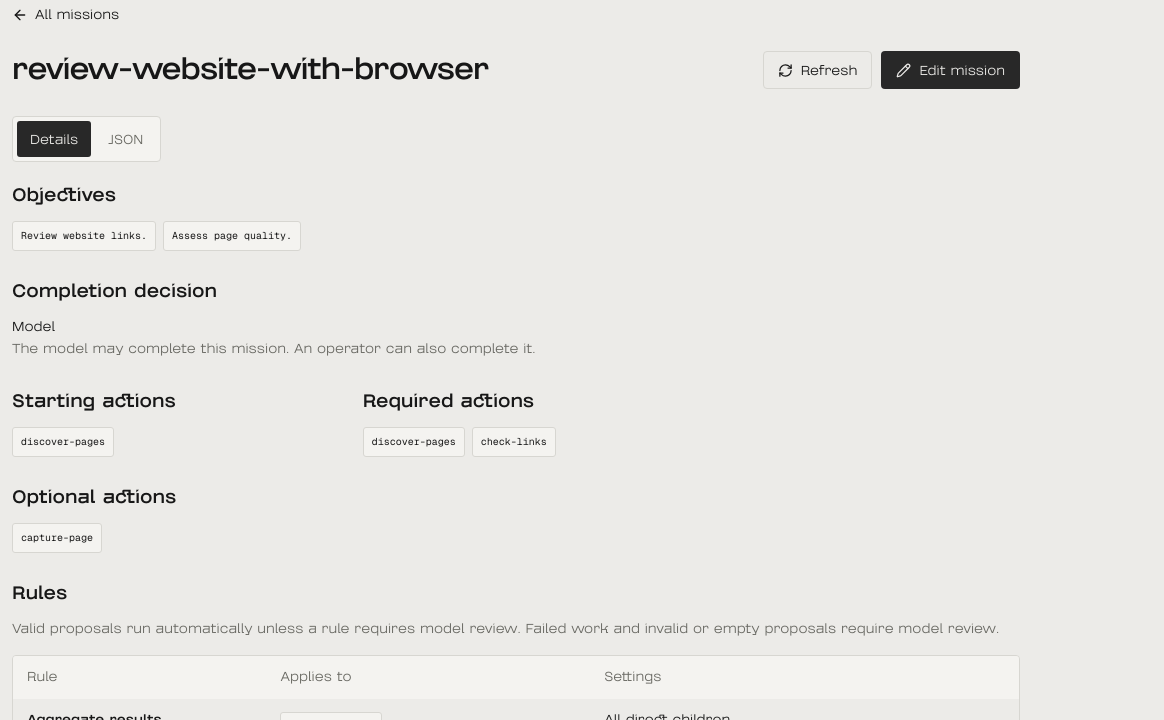
Test case: mission editing › keeps an uncertain update locked until the operator inspects saved state without retrying
Click the button "Edit mission" at (951, 70), box [881,51,1020,89]
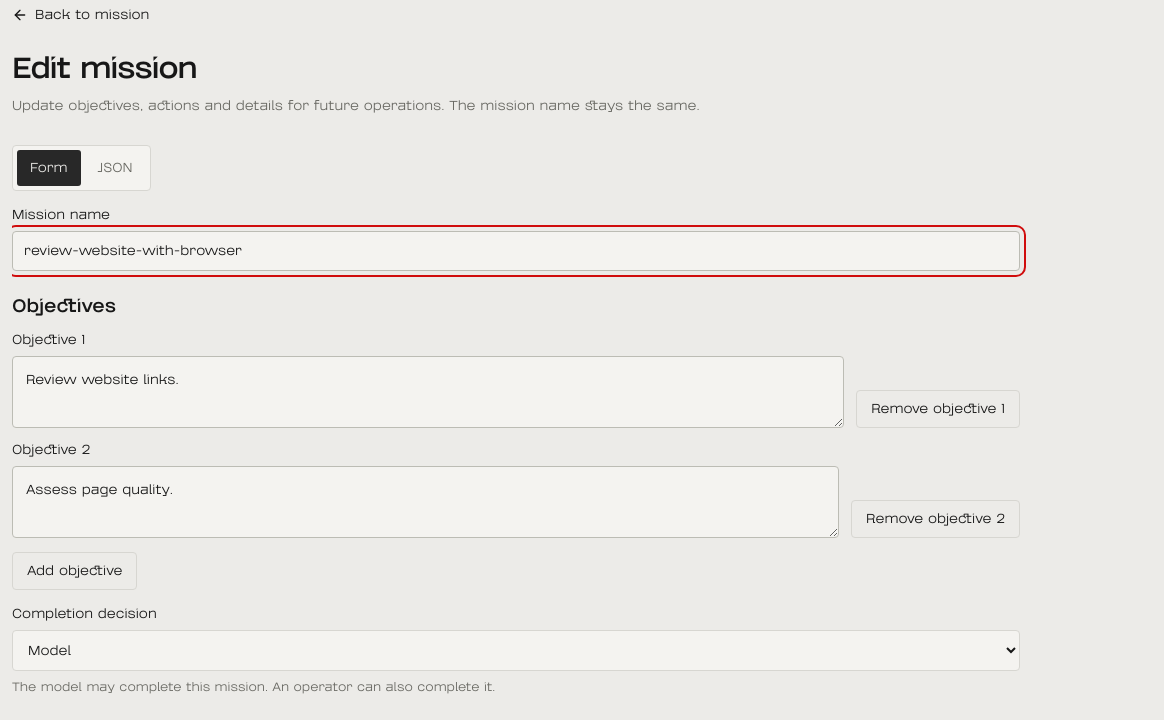
Replace the text in the text box labelled "Objective 1" with "The server accepted this update." at (428, 392), box [12,356,844,428]
(page scrolled)
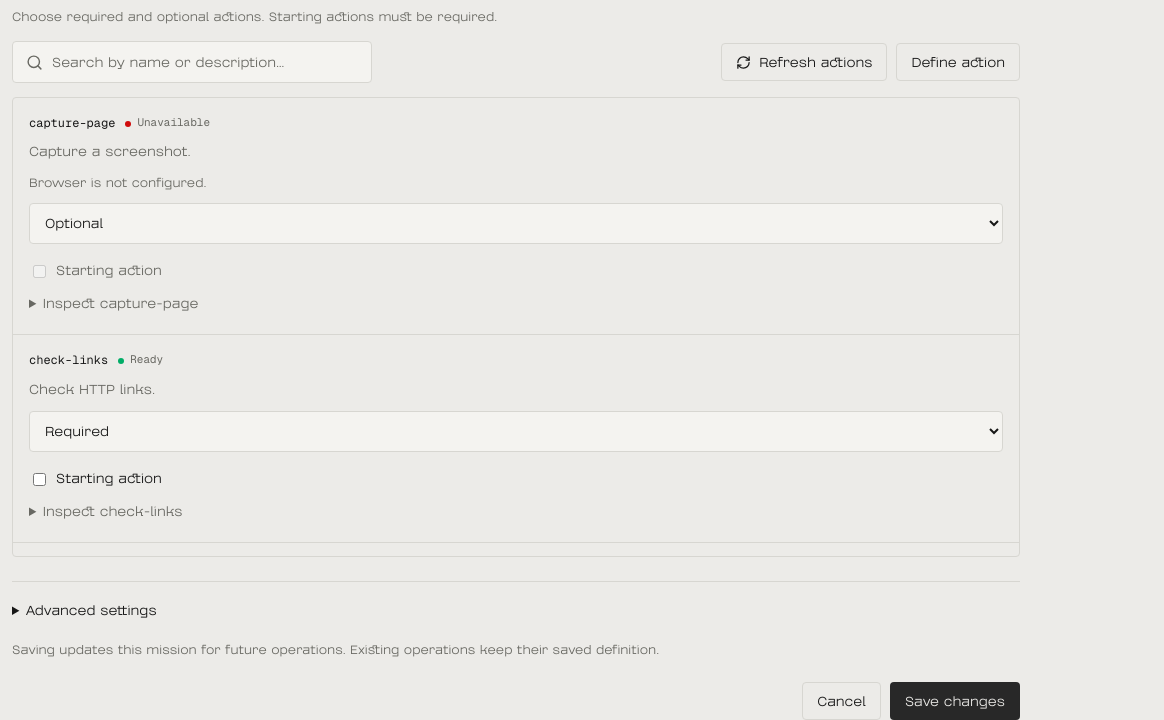
Click the button "Save changes" at (955, 701), box [890,682,1020,719]
(page scrolled)
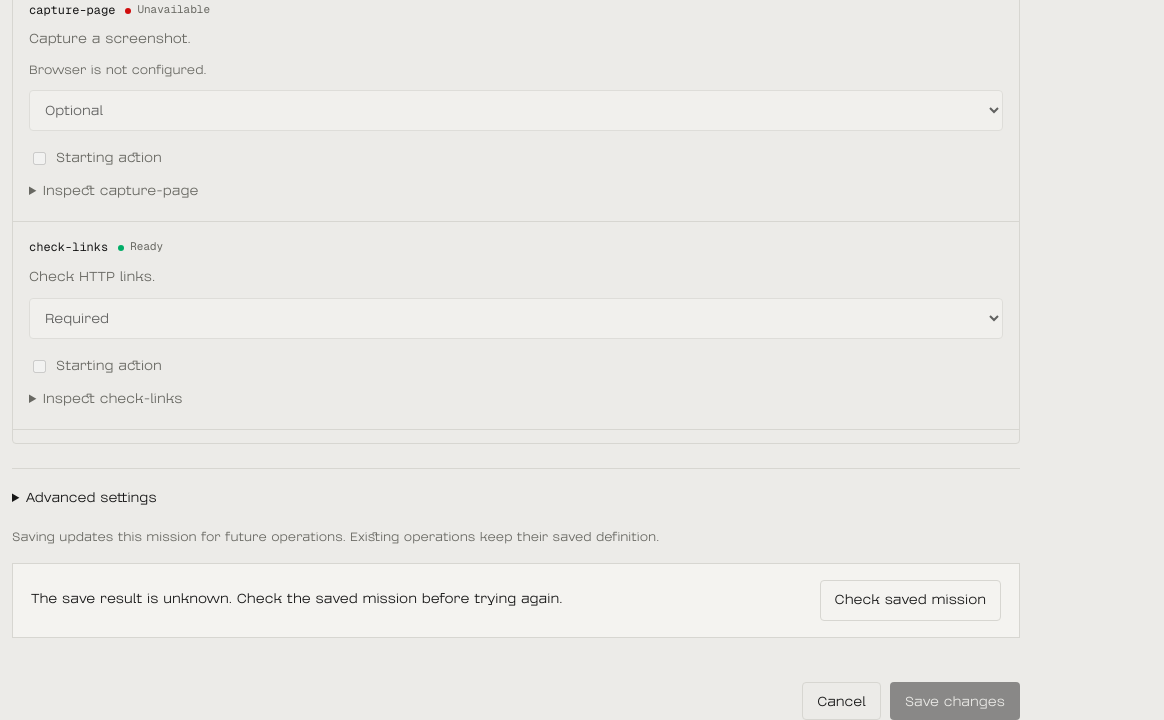
Now the message shows "The save result is unknown.", box [31,591,562,608]
Now the button "Save changes" is disabled, box [890,682,1020,719]
Click the button "Check saved mission" at (910, 601), box [820,580,1001,621]
(page scrolled)
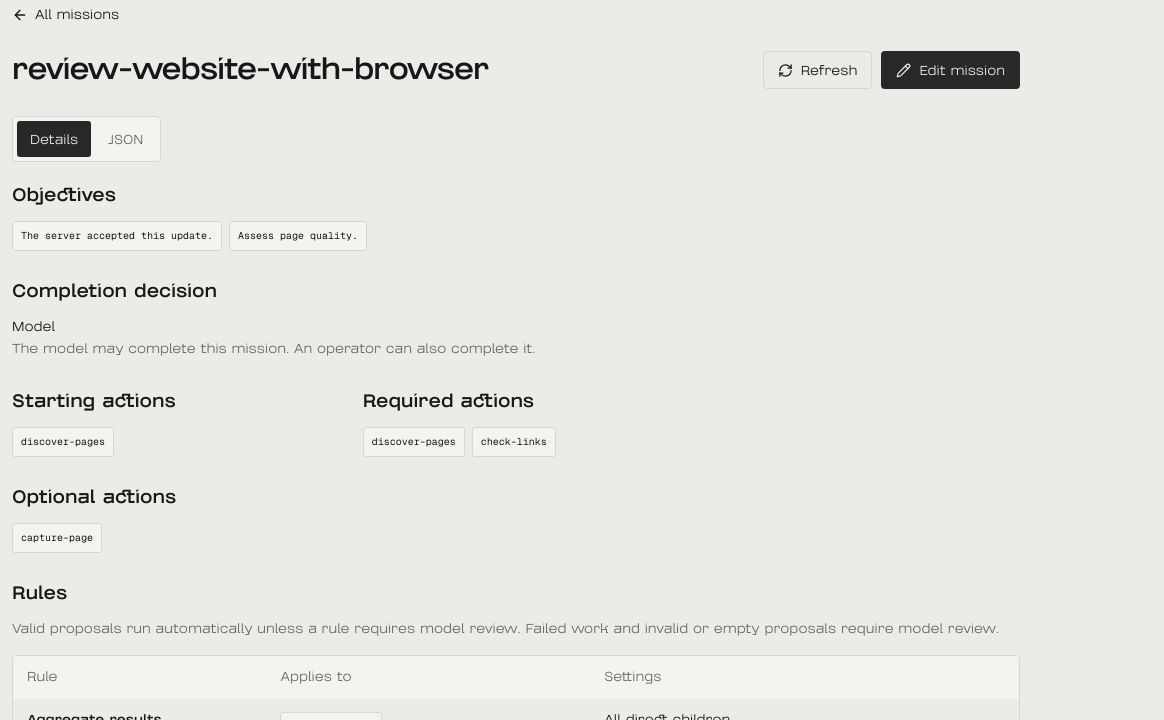
Now the list item "The server accepted this update." is shown, box [12,221,222,251]
